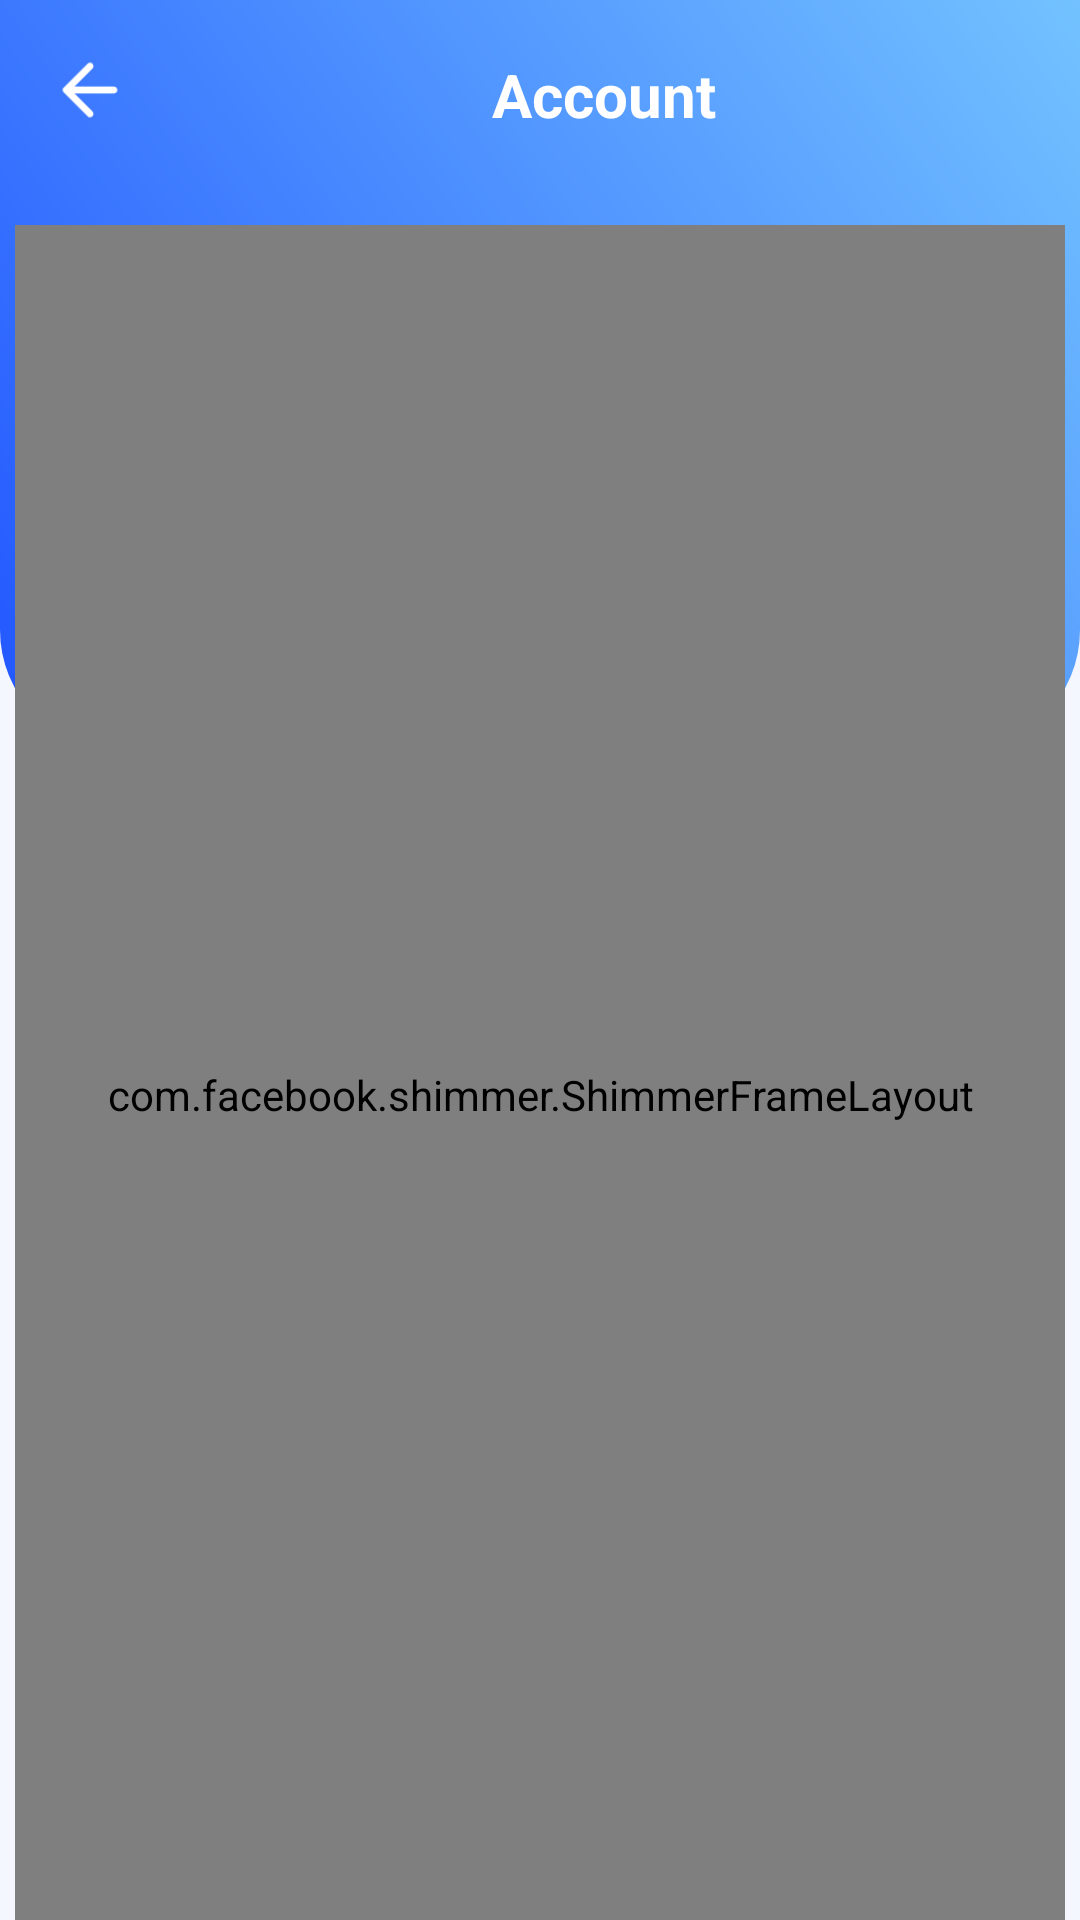

Named icons in this screenshot (1080×1920) and their centers, (x,y):
ICON BACK SUPPORT HELP: (90,90)
